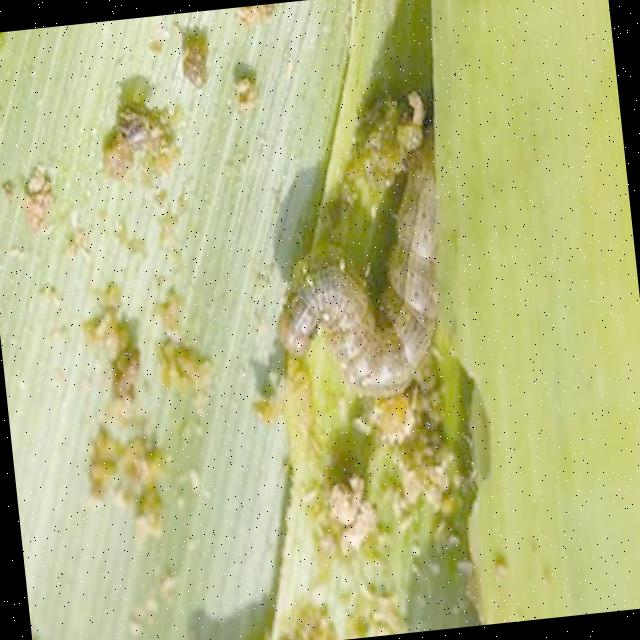worm: (252, 89, 464, 412)
